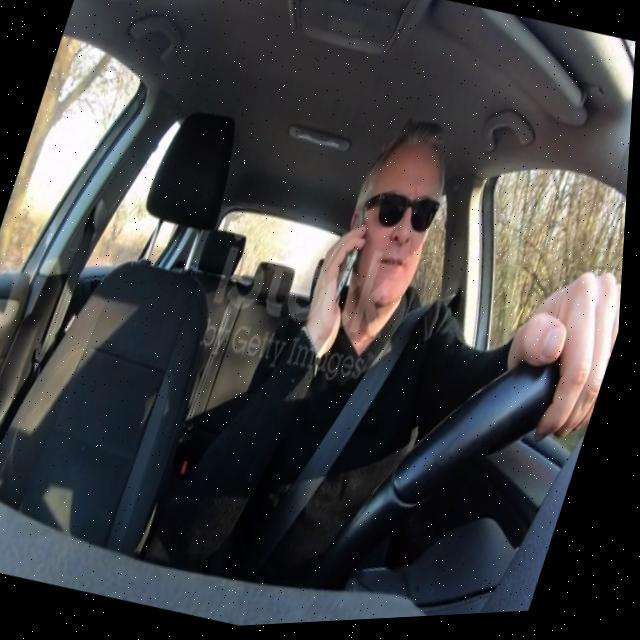PhoneCall: (331, 202, 382, 314)
